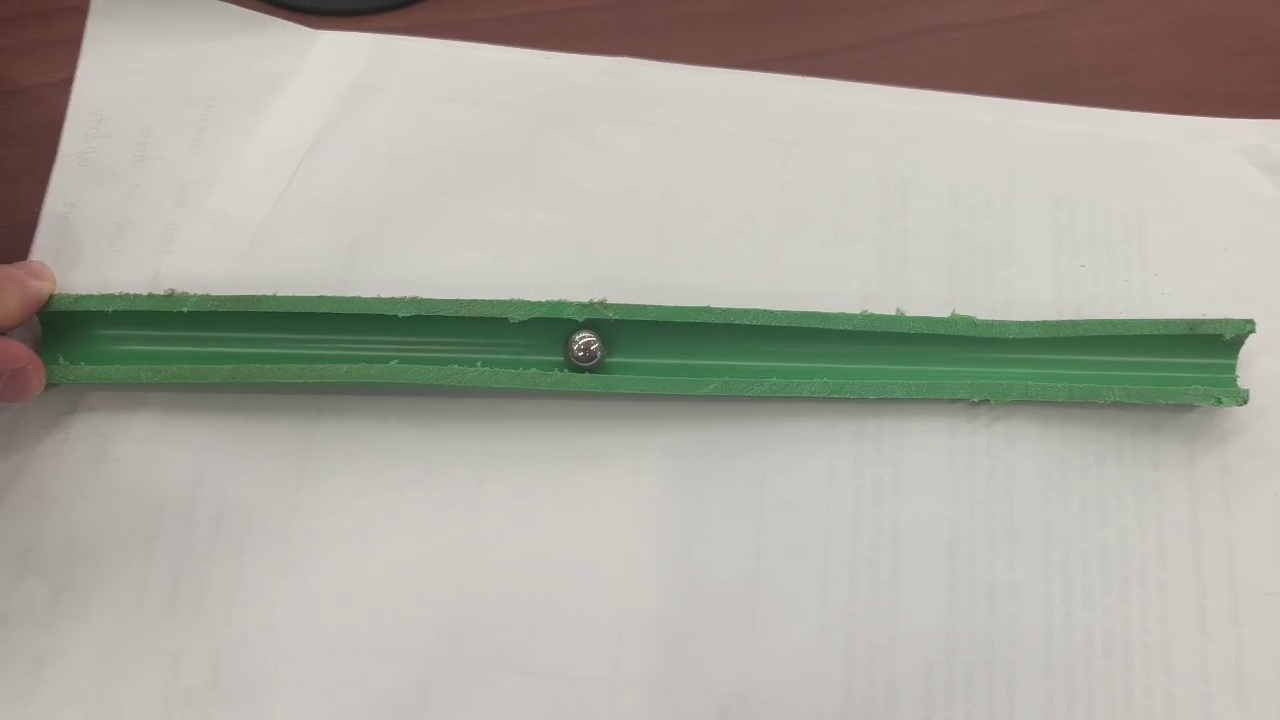ball: (568, 330, 603, 367)
